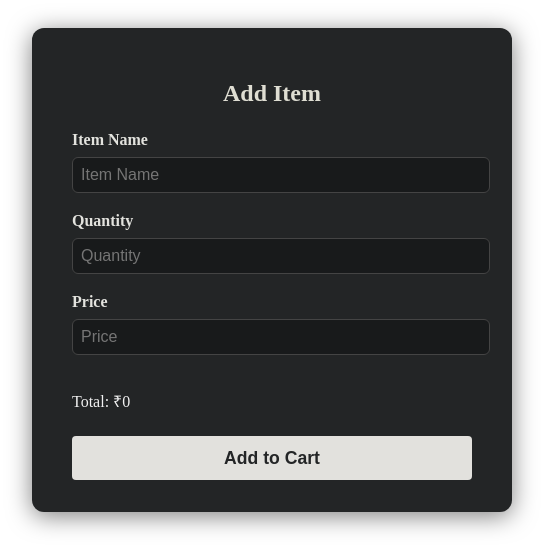
Test: ItemForm component › calculates total dynamically
Type "2" into the number field labelled "Quantity". click: (281, 256)
box: 72,238 -> 490,274
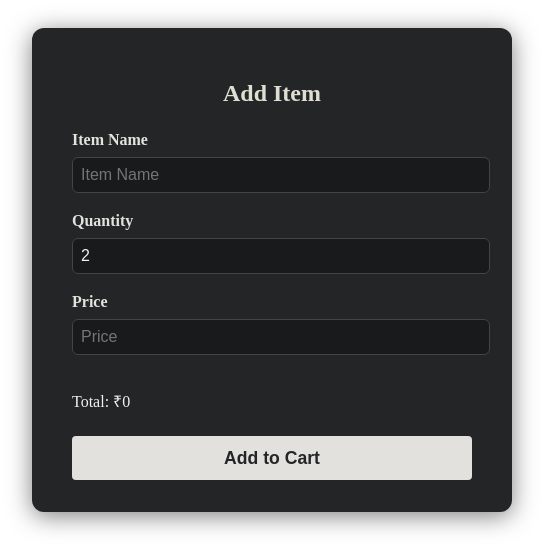
Type "100" into the number field labelled "Price". click: (281, 337)
box: 72,319 -> 490,355
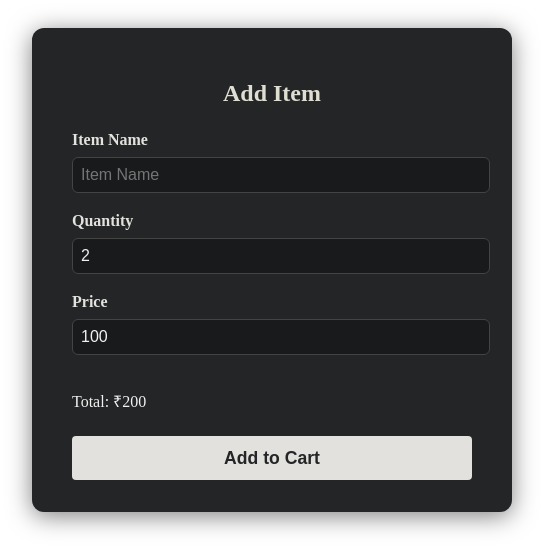
Expected: the text "Total: ₹200" is shown, 72,394 -> 146,410
